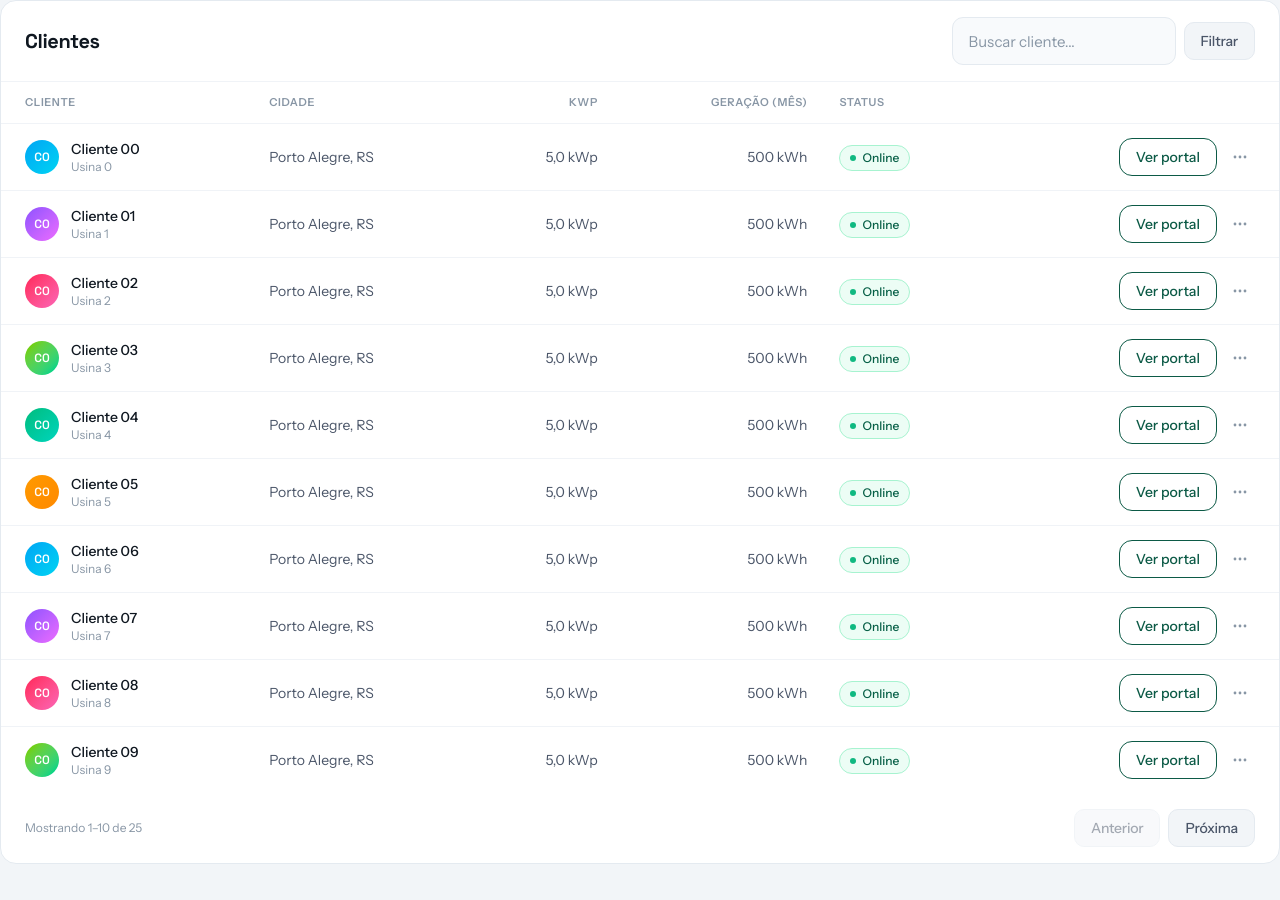
Test: ClientsPanel — paginação › filtrar a busca volta a mostrar a página com os resultados (clamp)
The width and height of the screenshot is (1280, 900).
Click the button "Próxima". click: (1212, 828)
box: 1168,808 -> 1255,846
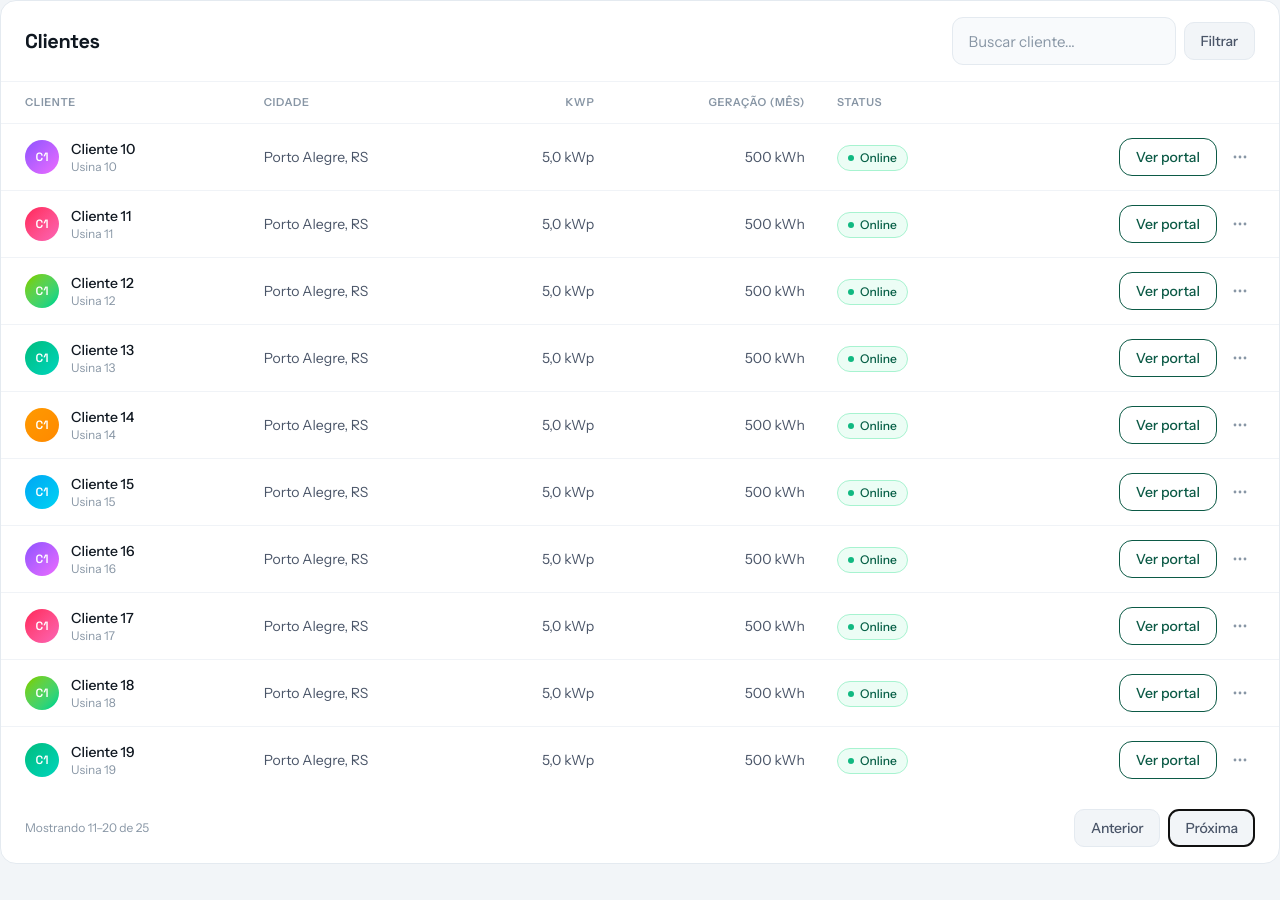
Click the button "Próxima". click: (1212, 828)
box: 1168,808 -> 1255,846
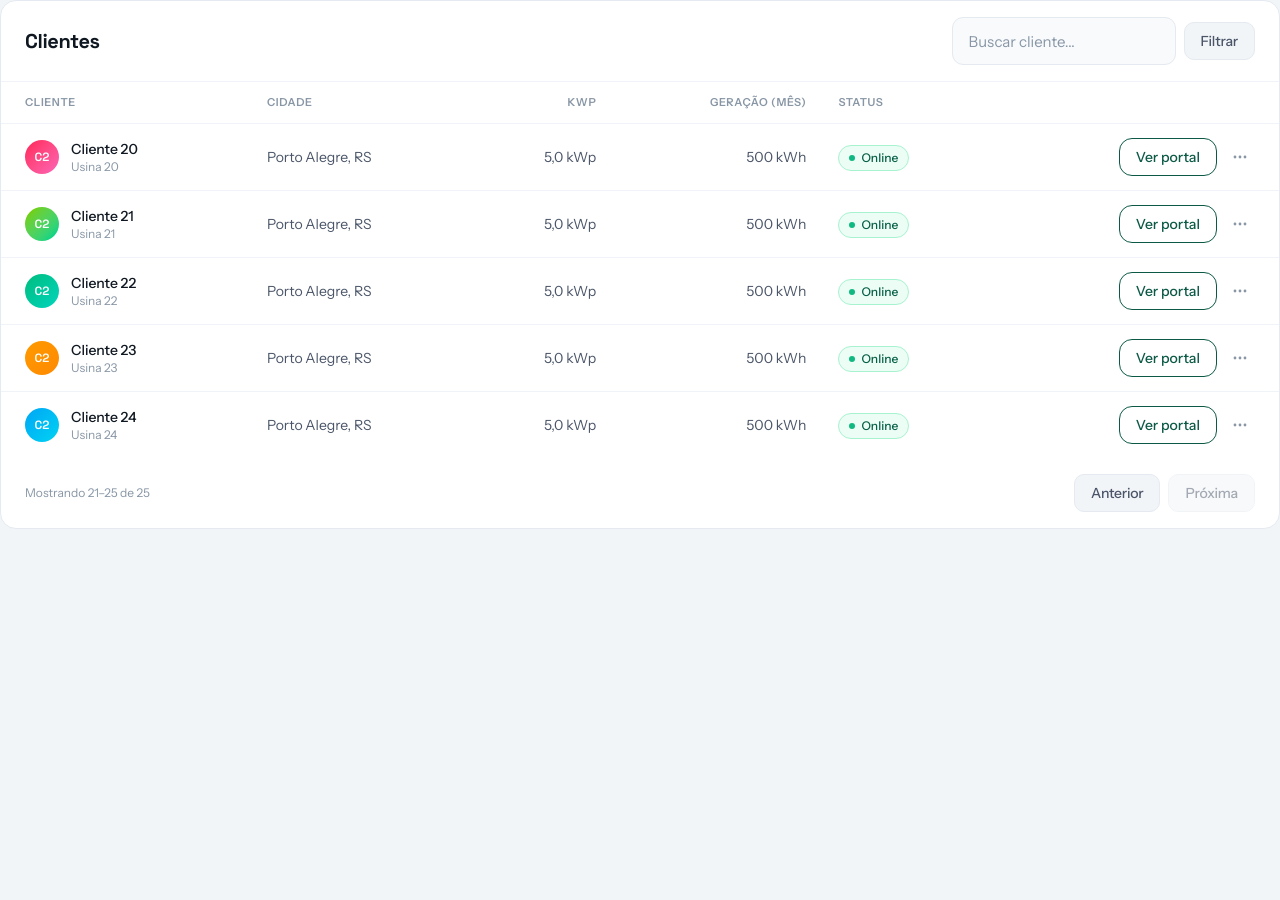
Expected: the text "Mostrando 21–25 de 25" is shown, 25,484 -> 150,500
Type "Cliente 00" into the field with placeholder "Buscar cliente...". click: (1064, 41)
box: 952,17 -> 1176,65
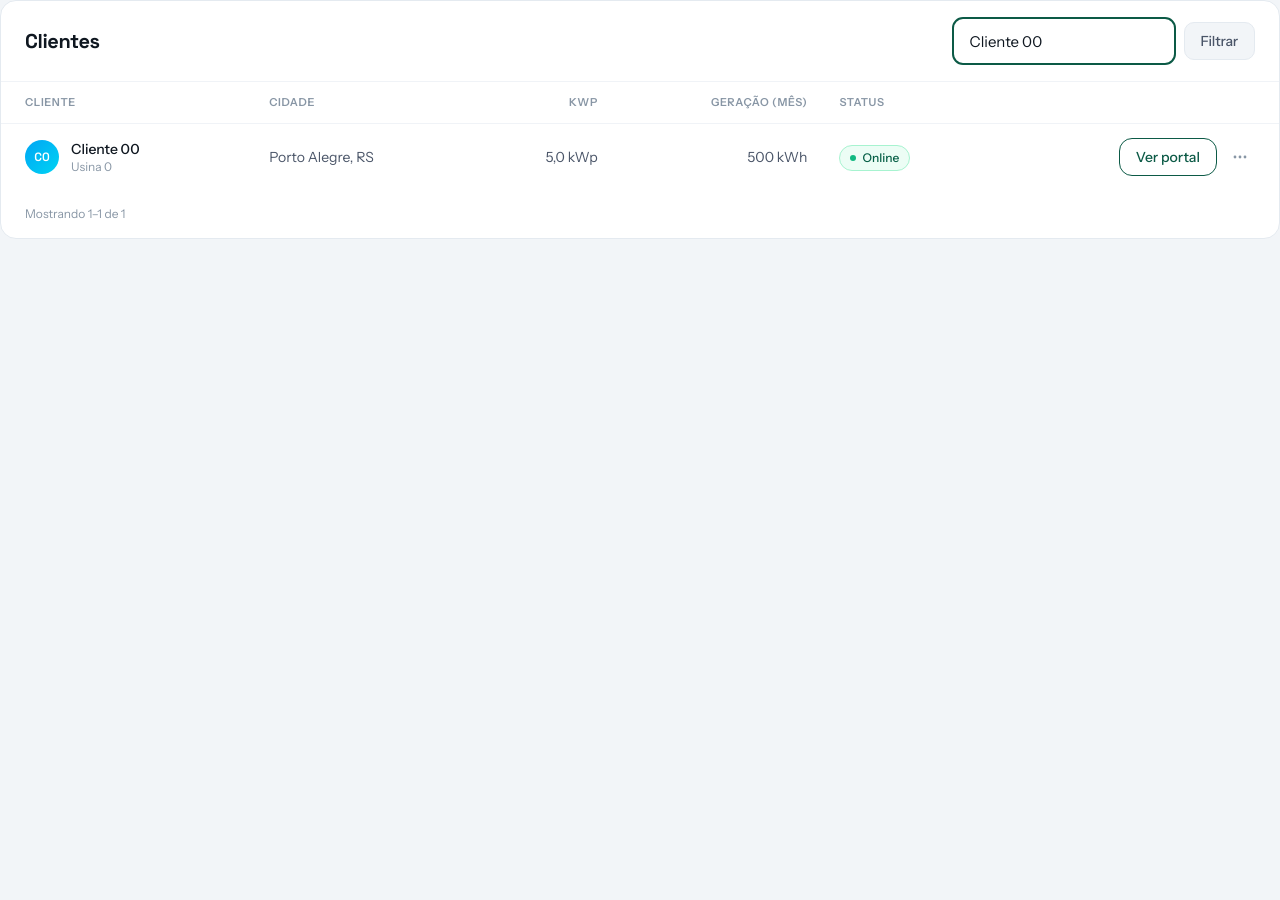
Expected: the text "Mostrando 1–1 de 1" is shown, 25,206 -> 126,222
Expected: the text "Cliente 00" is shown, 71,138 -> 140,158
